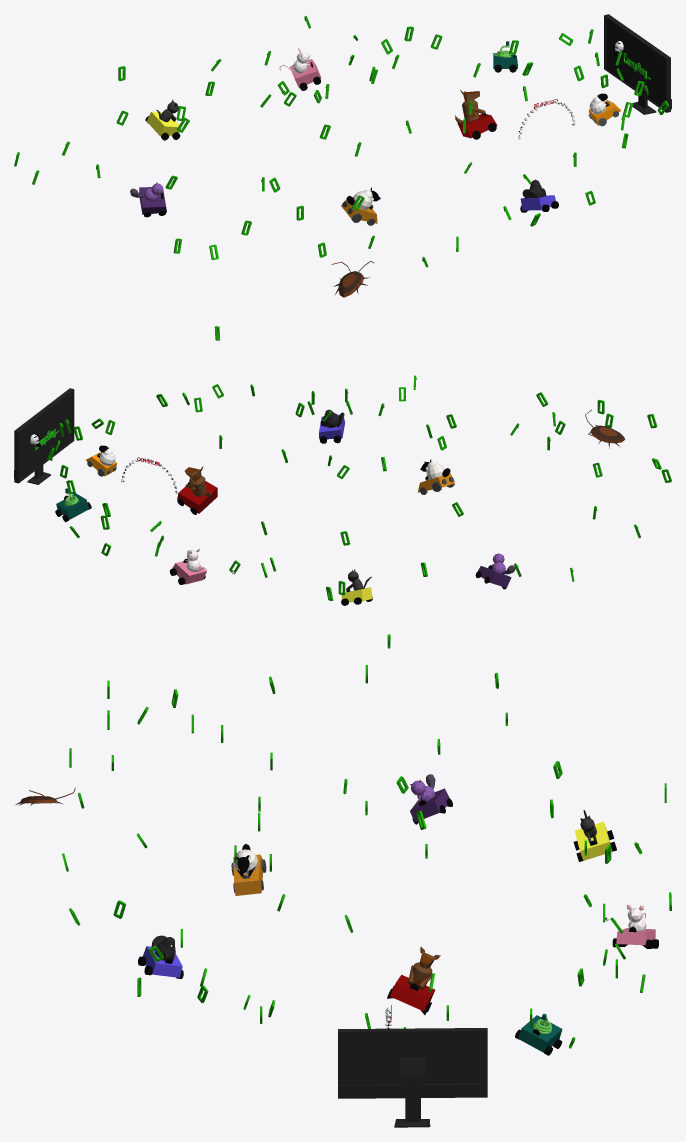
Rendered from CompilerB.glb.
3 views of the same model, one above another, from view 1: azimuth 30°, elevation 25°; view 2: azimuth 150°, elevation 25°; view 3: azimuth 270°, elevation 25° (orthographic). The views are drawn at different scales.
Visible parts, largest first — view 1: monitor, Cube.003, Cube, Cube.005, Cube.002, Cube.006, Cube.004, Cube.001, Cylinder.001, Cube.007; view 2: monitor, Cube.003, Cube, Cube.006, Cube.002, Cube.004, Cube.007, Cube.005, Cube.001, Cylinder.001; view 3: monitor, Cube.003, Cube, Cube.005, Cube.004, Cube.002, Cube.007, Cube.006.
Part boxes in pixels (x1,y1,x2,y2): monitor: [604, 14, 671, 114]; Cube.003: [455, 89, 497, 139]; Cube: [341, 187, 380, 225]; Cube.005: [145, 99, 180, 140]; Cube.002: [130, 182, 166, 217]; Cube.006: [279, 48, 321, 90]; Cube.004: [520, 179, 558, 212]; Cube.001: [588, 93, 621, 126]; Cylinder.001: [331, 261, 373, 297]; Cube.007: [492, 41, 517, 72]; monitor: [14, 388, 74, 484]; Cube.003: [177, 466, 217, 514]; Cube: [417, 459, 454, 494]; Cube.006: [169, 548, 206, 584]; Cube.002: [475, 553, 515, 589]; Cube.004: [319, 409, 344, 443]; Cube.007: [55, 488, 91, 522]; Cube.005: [341, 569, 372, 605]; Cube.001: [85, 445, 116, 476]; Cylinder.001: [585, 409, 624, 448]; monitor: [338, 1028, 487, 1127]; Cube.003: [387, 946, 440, 1014]; Cube: [231, 844, 266, 895]; Cube.005: [573, 810, 616, 861]; Cube.004: [138, 935, 183, 978]; Cube.002: [410, 774, 452, 824]; Cube.007: [515, 1013, 562, 1055]; Cube.006: [612, 904, 658, 948].
Bounding box in the file's own units: 282 × 57.56 × 207.
51 materials, 16 textured.
